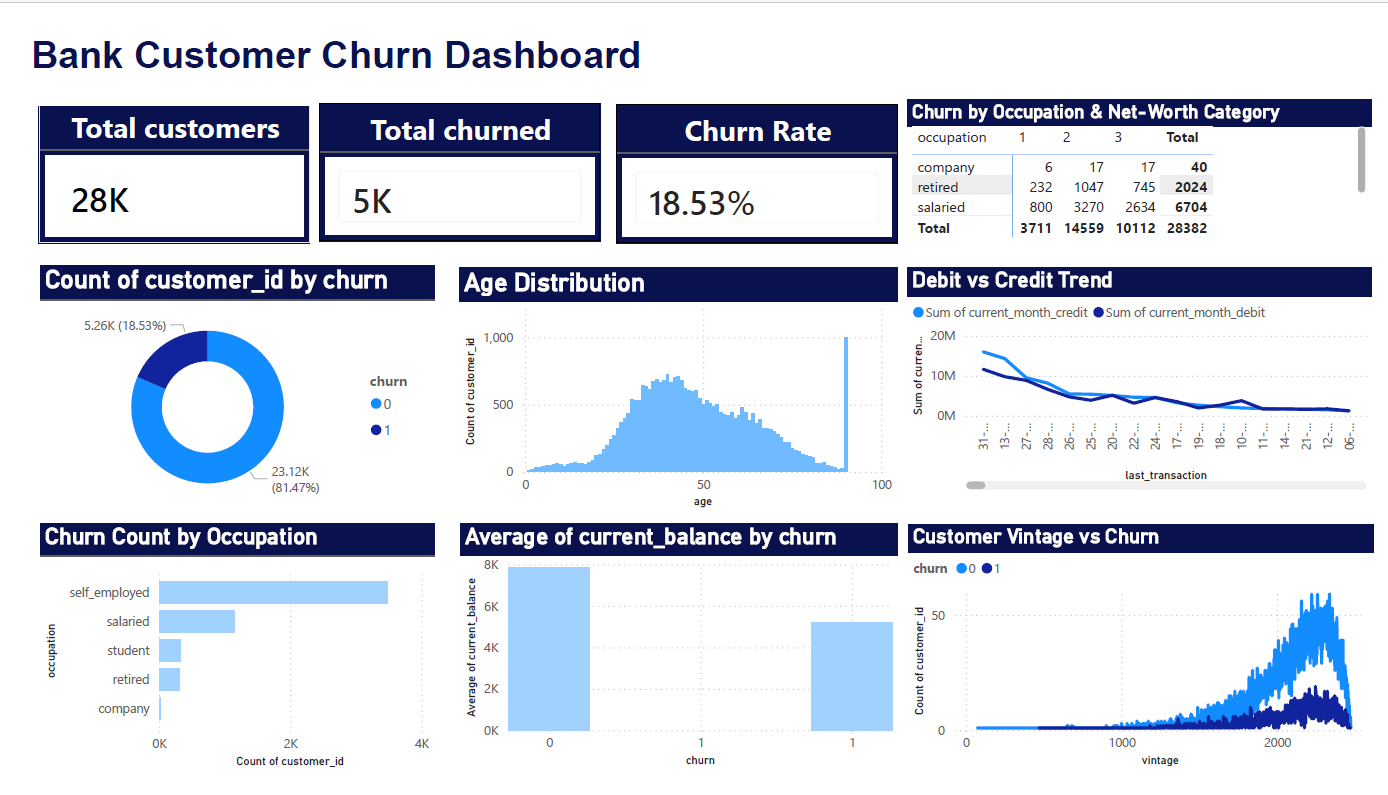

The page's visual inventory and layout, read from the dashboard file:
{"tool":"powerbi","page":{"name":"Page 1","canvas":[1280,720],"ordinal":0},"visuals":[{"type":"cardVisual","fields":{"Data":["churn_prediction_Cleaned.Total Customers"]},"box":[13.3,68.9,256.7,135.6],"z":0},{"type":"textbox","box":[0,0,601.4,72.9],"z":1000},{"type":"cardVisual","fields":{"Data":["churn_prediction_Cleaned.Total Churned"]},"box":[278.9,71.1,266.7,131.1],"z":2000},{"type":"cardVisual","fields":{"Data":["churn_prediction_Cleaned.Churn Rate"]},"box":[561.4,71.9,266.7,131.6],"z":3000},{"type":"donutChart","fields":{"Y":["CountNonNull(churn_prediction_Cleaned.customer_id)"],"Category":["churn_prediction_Cleaned.churn"]},"box":[14,224.6,373.7,235.1],"z":4000},{"type":"clusteredBarChart","title":"Churn Count by Occupation","fields":{"Y":["CountNonNull(churn_prediction_Cleaned.customer_id)"],"Category":["churn_prediction_Cleaned.occupation"]},"box":[14,470,374,235],"z":5000},{"type":"columnChart","title":"Age Distribution","fields":{"Y":["CountNonNull(churn_prediction_Cleaned.customer_id)"],"Category":["churn_prediction_Cleaned.age"]},"box":[411.7,226.7,416.7,233.3],"z":6000},{"type":"clusteredColumnChart","fields":{"Category":["churn_prediction_Cleaned.churn"],"Y":["Avg(churn_prediction_Cleaned.current_balance)"]},"box":[413.3,470,415,235],"z":7000},{"type":"lineChart","title":"Customer Vintage vs Churn","fields":{"Category":["churn_prediction_Cleaned.vintage"],"Y":["CountNonNull(churn_prediction_Cleaned.customer_id)"],"Series":["churn_prediction_Cleaned.churn"]},"box":[838,471,442,234],"z":8000},{"type":"lineChart","title":"Debit vs Credit Trend","fields":{"Category":["churn_prediction_Cleaned.last_transaction"],"Y":["Sum(churn_prediction_Cleaned.current_month_credit)","Sum(churn_prediction_Cleaned.current_month_debit)"]},"box":[836.7,226.7,441.7,216.7],"z":9000},{"type":"pivotTable","title":"Churn by Occupation & Net-Worth Category","fields":{"Rows":["churn_prediction_Cleaned.occupation"],"Columns":["churn_prediction_Cleaned.customer_nw_category"],"Values":["CountNonNull(churn_prediction_Cleaned.customer_id)"]},"box":[836.7,68.3,441.7,135],"z":10000}]}

Visuals, with their boxes in screenshot pixels (x1, y1, x2, y2), scaled from the page's 1280x720 canvas onto the 1388x795 screenshot:
cardVisual - churn_prediction_Cleaned.Total Customers: bbox=(14, 76, 293, 226)
textbox: bbox=(0, 0, 652, 80)
cardVisual - churn_prediction_Cleaned.Total Churned: bbox=(302, 79, 592, 223)
cardVisual - churn_prediction_Cleaned.Churn Rate: bbox=(609, 79, 898, 225)
donutChart - CountNonNull(churn_prediction_Cleaned.customer_id) x churn_prediction_Cleaned.churn: bbox=(15, 248, 420, 508)
"Churn Count by Occupation" clusteredBarChart: bbox=(15, 519, 421, 778)
"Age Distribution" columnChart: bbox=(446, 250, 898, 508)
clusteredColumnChart - churn_prediction_Cleaned.churn x Avg(churn_prediction_Cleaned.current_balance): bbox=(448, 519, 898, 778)
"Customer Vintage vs Churn" lineChart: bbox=(909, 520, 1387, 778)
"Debit vs Credit Trend" lineChart: bbox=(907, 250, 1386, 490)
"Churn by Occupation & Net-Worth Category" pivotTable: bbox=(907, 75, 1386, 224)
